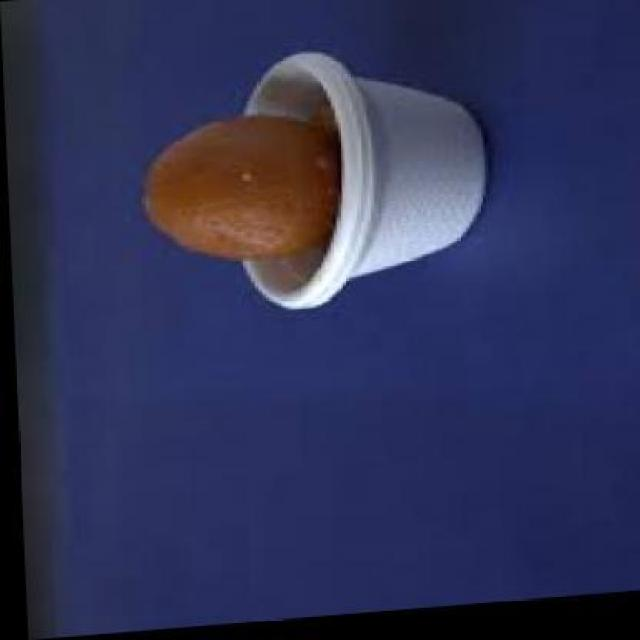gulab_jamun: (140, 113, 342, 270)
